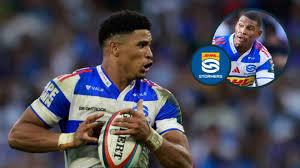ballon_rugby: (97, 108, 143, 168)
